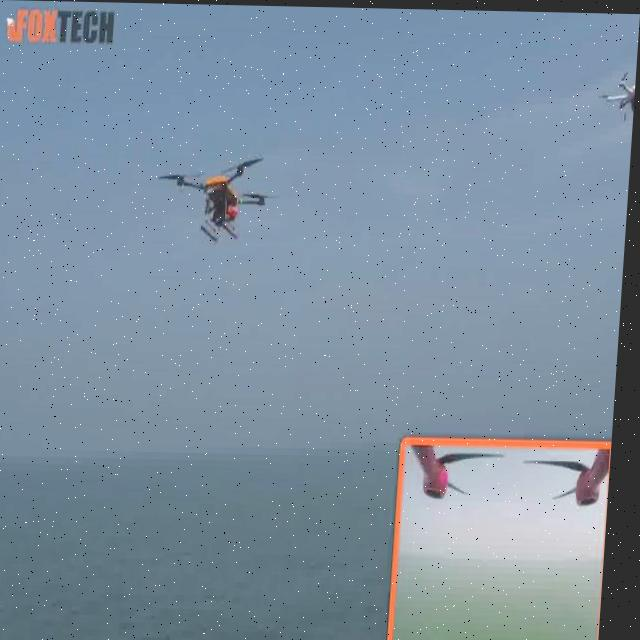drone: (166, 138, 285, 258), (586, 51, 637, 139)
